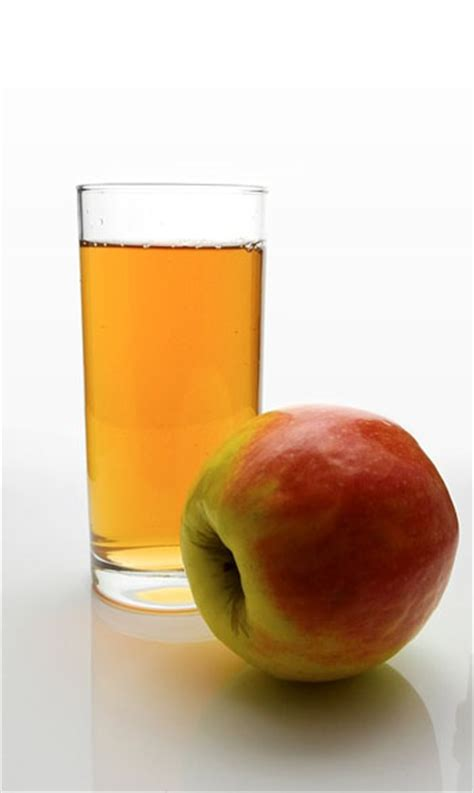apple: (171, 397, 461, 689)
